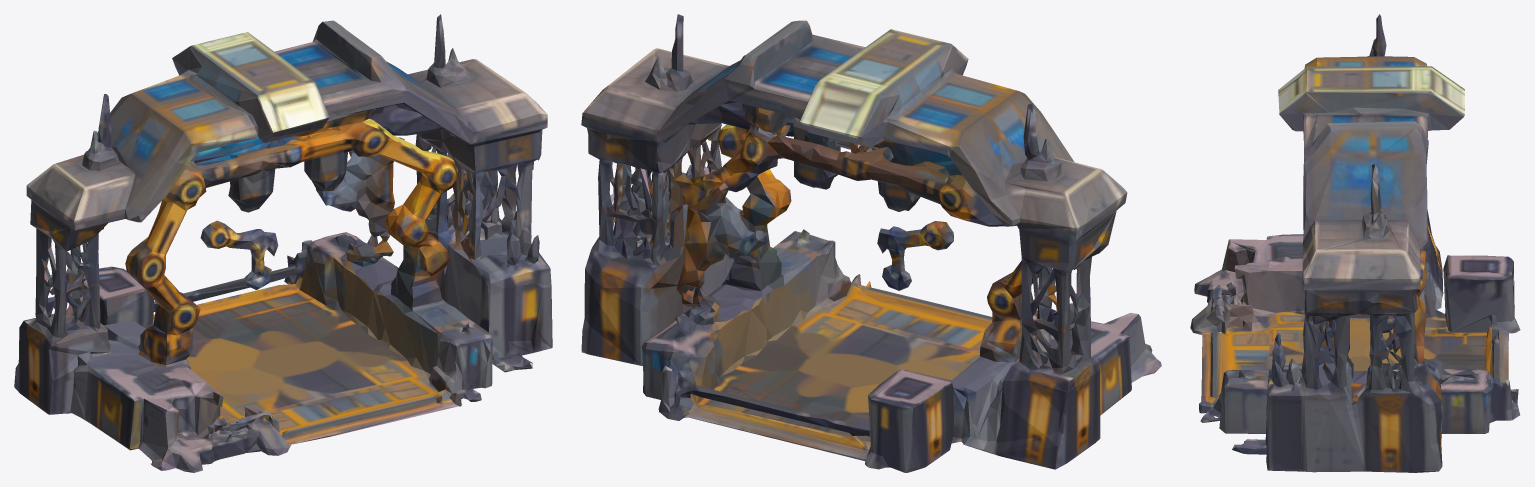
File: cyber_repair_dock_1117.glb
3 views of the same model, side by side, from view 1: azimuth 30°, elevation 25°; view 2: azimuth 150°, elevation 25°; view 3: azimuth 270°, elevation 25° (orthographic). The views are drawn at different scales.
Parts seen in each view (by area): view 1: tmpzpgwmr5q.ply; view 2: tmpzpgwmr5q.ply; view 3: tmpzpgwmr5q.ply.
Boxes of the visible parts, box(x1,y1,x2,y2) form: tmpzpgwmr5q.ply: box(14, 14, 552, 472); tmpzpgwmr5q.ply: box(581, 14, 1161, 472); tmpzpgwmr5q.ply: box(1190, 14, 1520, 472).
Bounding box in the file's own units: 1.98 × 1.25 × 1.32.
Materials: 1 (1 with a texture image).
